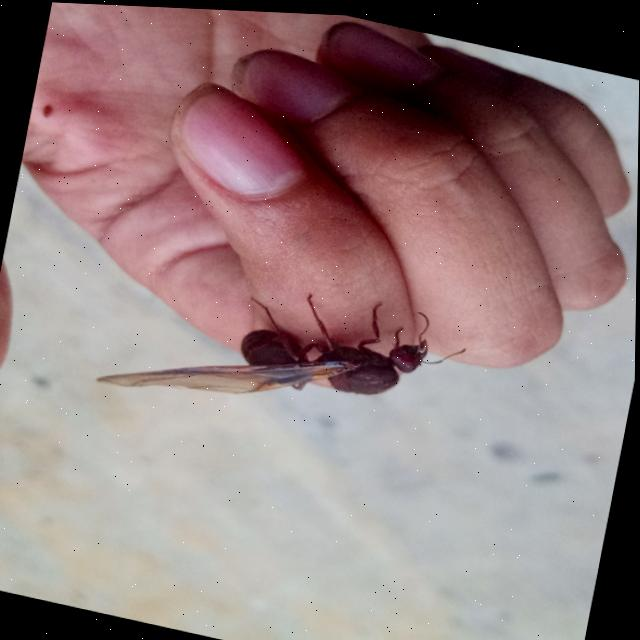Alive-Female-Alate: (96, 242, 473, 455)
